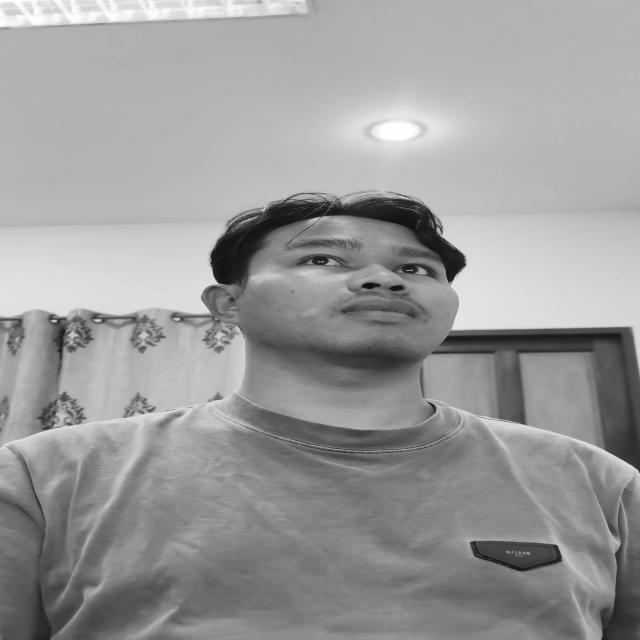ear: (201, 284, 241, 324)
